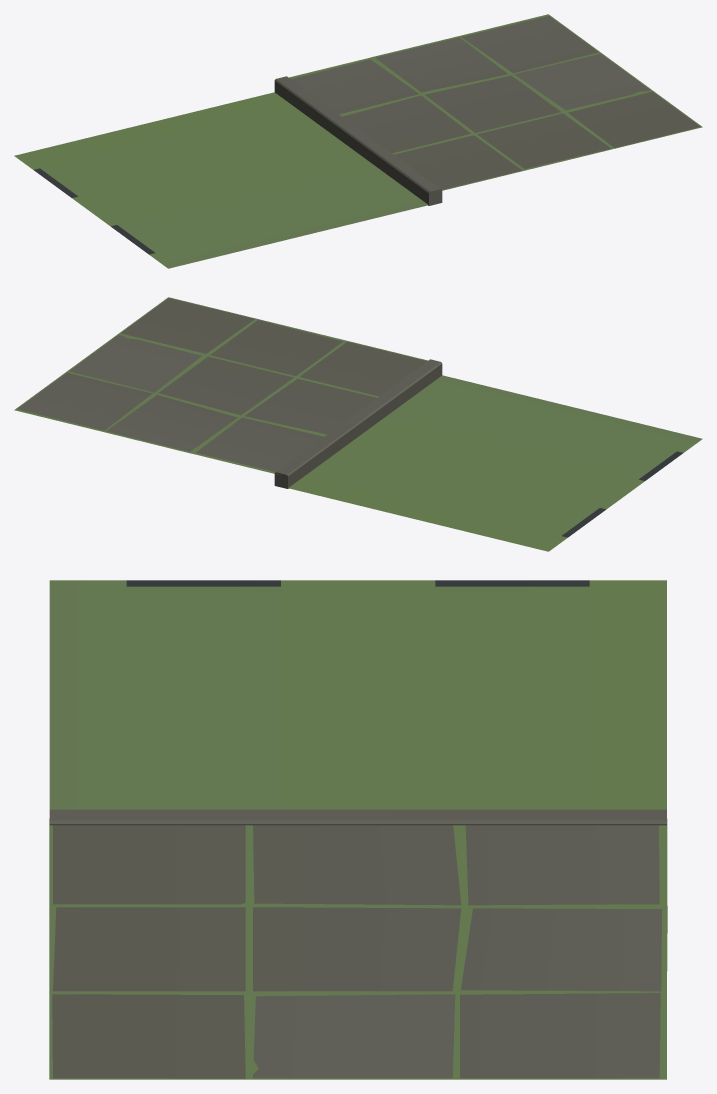
The model's file is Road_02.fbx.
3 views of the same model, one above another, from view 1: azimuth 30°, elevation 25°; view 2: azimuth 150°, elevation 25°; view 3: azimuth 270°, elevation 25° (orthographic). The views are drawn at different scales.
Visible parts, largest first — view 1: Road_02; view 2: Road_02; view 3: Road_02.
Part boxes in pixels (x1,y1,x2,y2): Road_02: (14, 14, 702, 268); Road_02: (14, 297, 702, 551); Road_02: (49, 580, 667, 1079).
Bounding box in the file's own units: 6 × 0.15 × 3.01.
